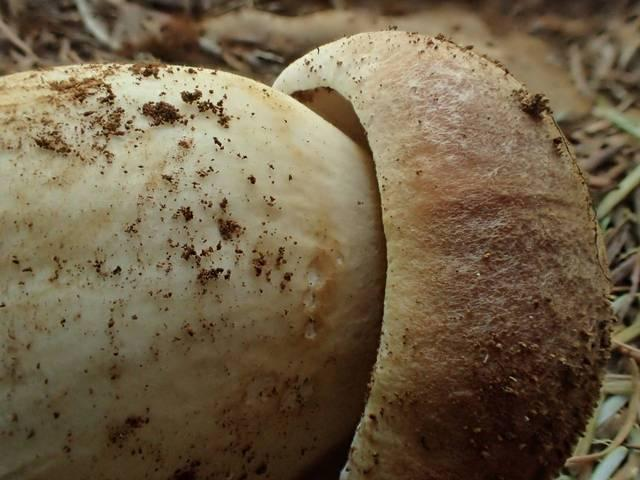edible_mushroom: (0, 29, 616, 479)
